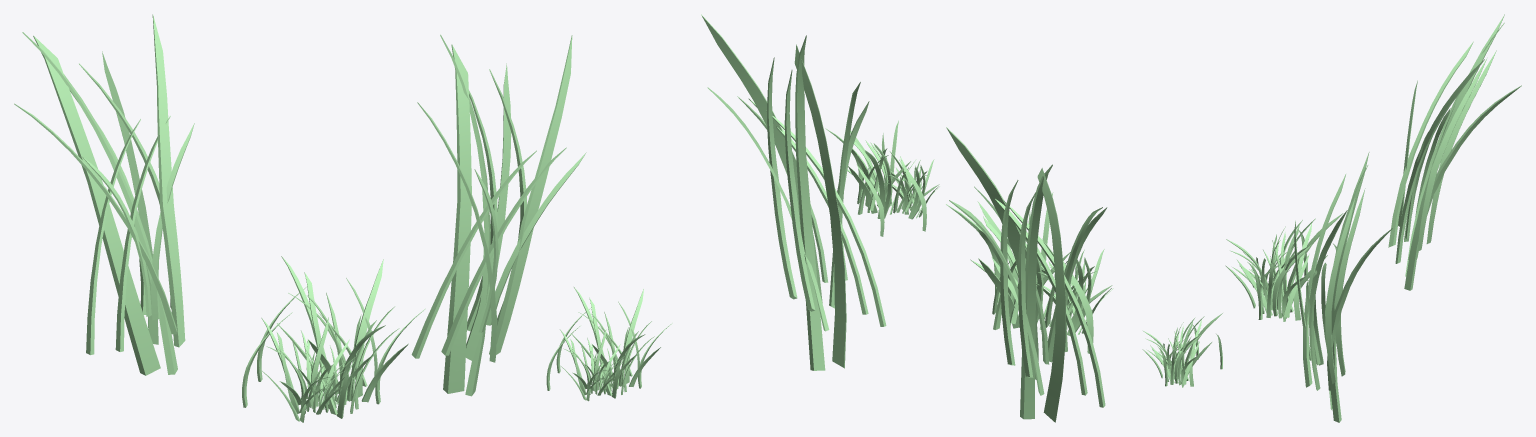
File: sm_3dplants_04.gltf
3 renders of one model, left to right at view 1: azimuth 30°, elevation 25°; view 2: azimuth 150°, elevation 25°; view 3: azimuth 270°, elevation 25°, orthographic. The views are drawn at different scales.
Visible parts, largest first — view 1: sm_3dplants_04; view 2: sm_3dplants_04; view 3: sm_3dplants_04.
Part boxes in pixels (x1,y1,x2,y2): sm_3dplants_04: (14,14,672,422); sm_3dplants_04: (701,14,1113,422); sm_3dplants_04: (1142,14,1521,422).
Size of the model in its own units: 1.46 by 1.07 by 1.31.
